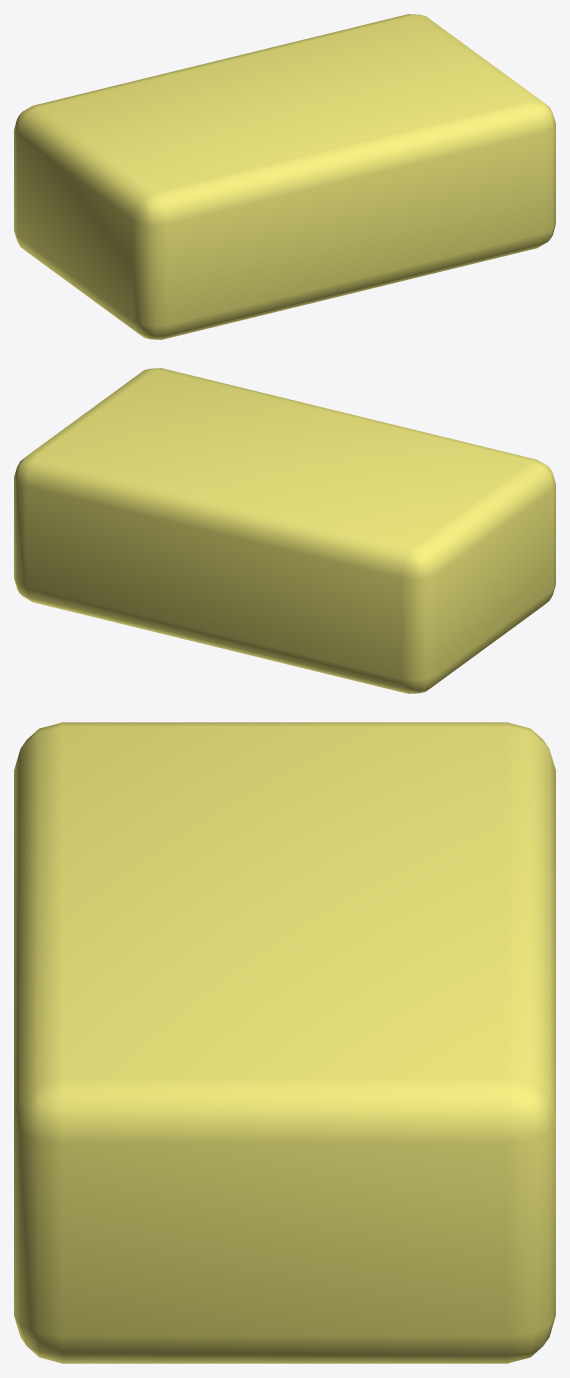
File: sponge_pad.glb
3 renders of one model, top to bottom at view 1: azimuth 30°, elevation 25°; view 2: azimuth 150°, elevation 25°; view 3: azimuth 270°, elevation 25°, orthographic. The views are drawn at different scales.
Parts seen in each view (by area): view 1: sponge_pad; view 2: sponge_pad; view 3: sponge_pad.
Boxes of the visible parts, bbox=[...] form: sponge_pad: bbox=[14, 14, 555, 339]; sponge_pad: bbox=[14, 368, 555, 693]; sponge_pad: bbox=[14, 722, 555, 1363].
Size of the model in its own units: 0.96 by 0.32 by 0.56.
